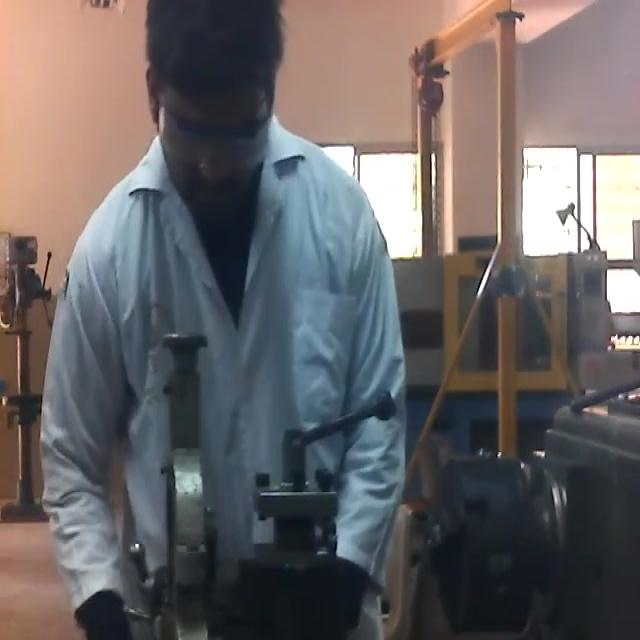googles: (158, 85, 278, 165)
labcoat: (41, 124, 408, 640)
